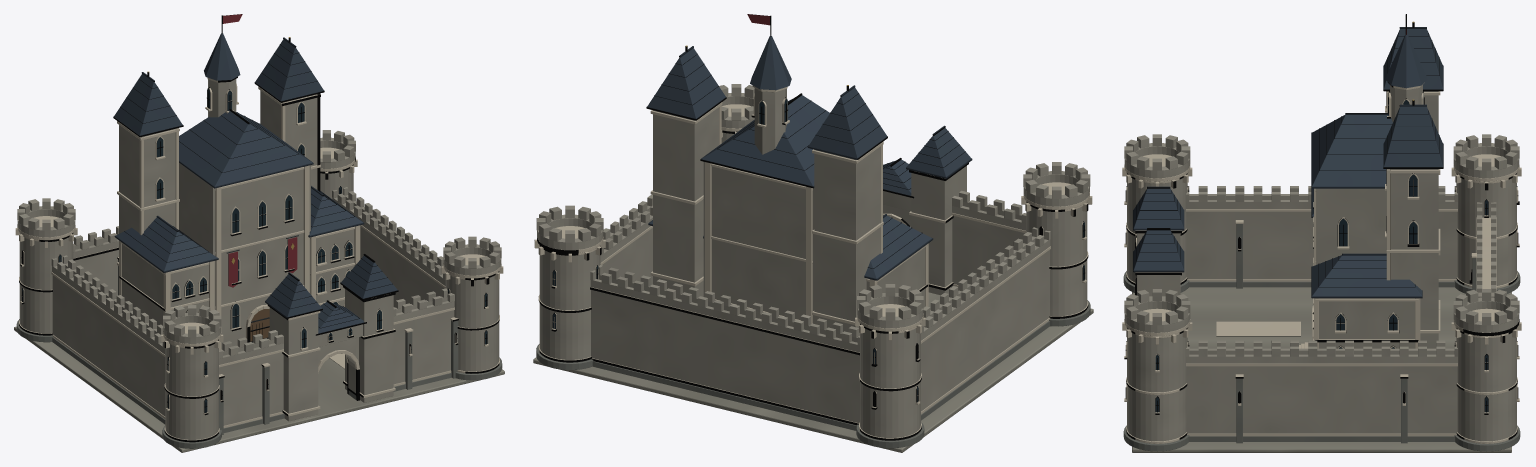
The model's file is Royal_Castle.fbx.
3 views of the same model, side by side, from view 1: azimuth 30°, elevation 25°; view 2: azimuth 150°, elevation 25°; view 3: azimuth 270°, elevation 25° (orthographic). The views are drawn at different scales.
Visible parts, largest first — view 1: Royal_Castle.001; view 2: Royal_Castle.001; view 3: Royal_Castle.001.
Boxes of the visible parts, <box> form: Royal_Castle.001: <box>14,14,504,452</box>; Royal_Castle.001: <box>533,14,1093,452</box>; Royal_Castle.001: <box>1122,14,1521,452</box>.
Size of the model in its own units: 30.98 by 27.44 by 28.38.
